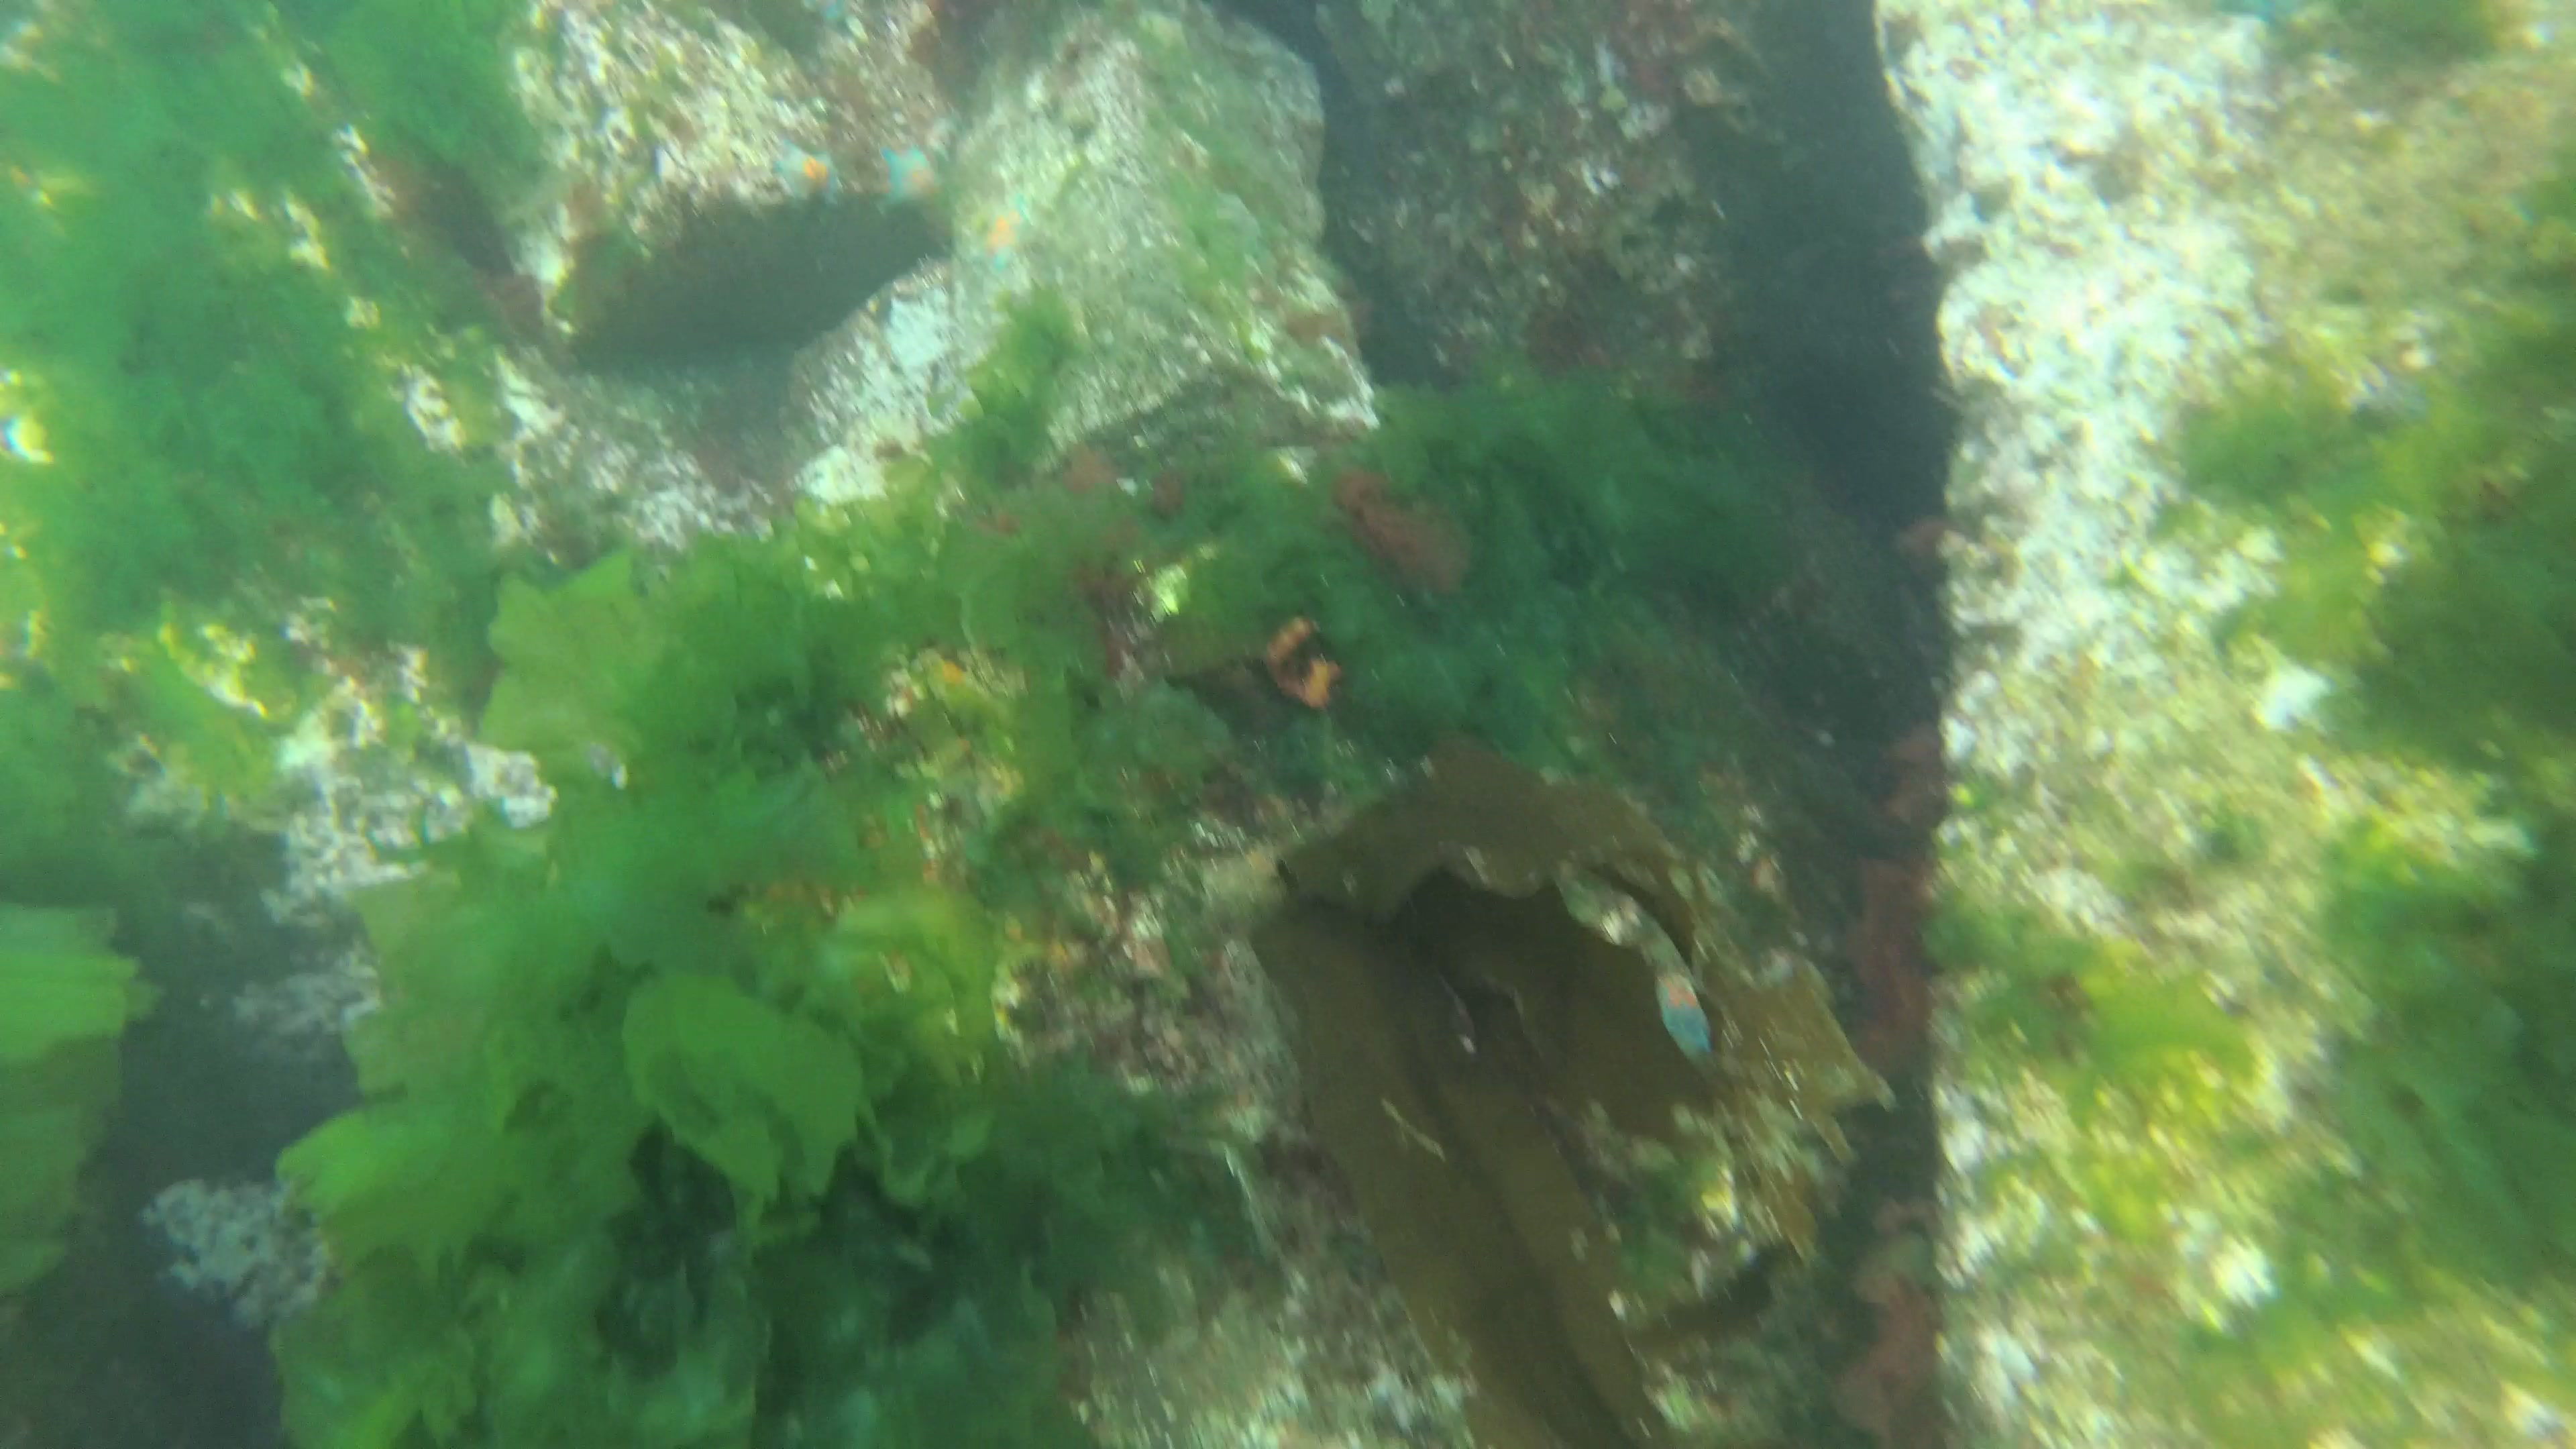starfish: (1649, 966, 1721, 1060), (971, 193, 1047, 272), (764, 140, 846, 205), (878, 145, 947, 216)
